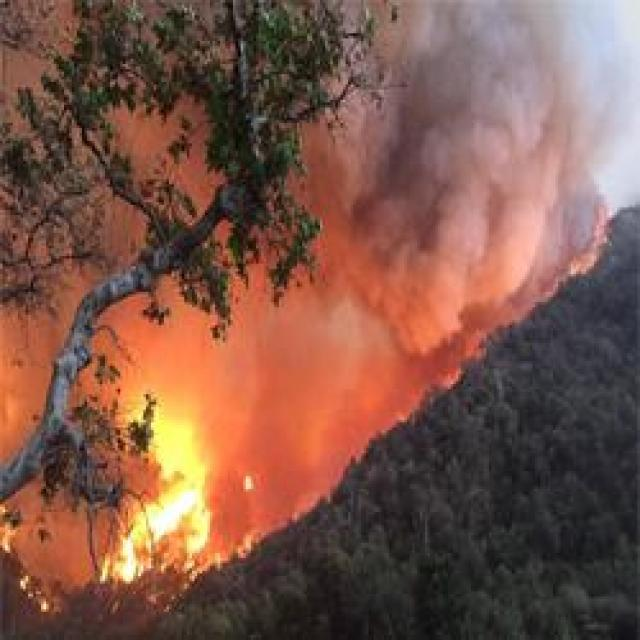Fire: (68, 394, 272, 607)
Smoke: (311, 22, 611, 353), (0, 290, 451, 468)
